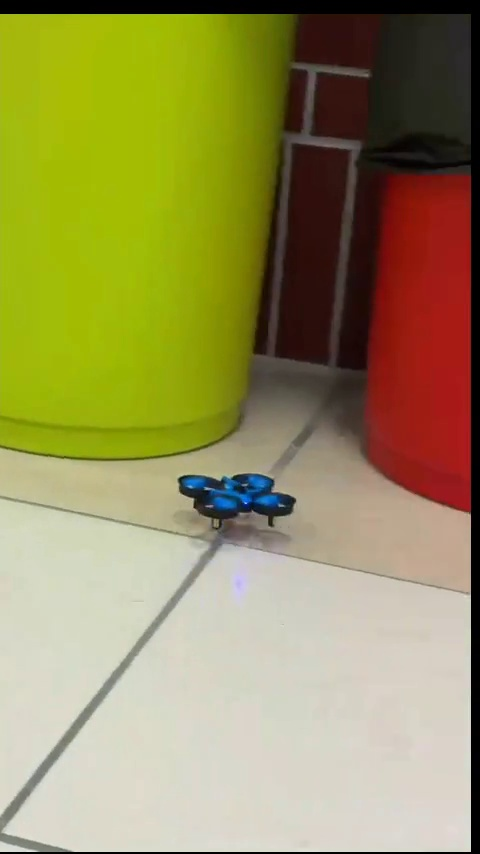drone: (183, 468, 292, 529)
